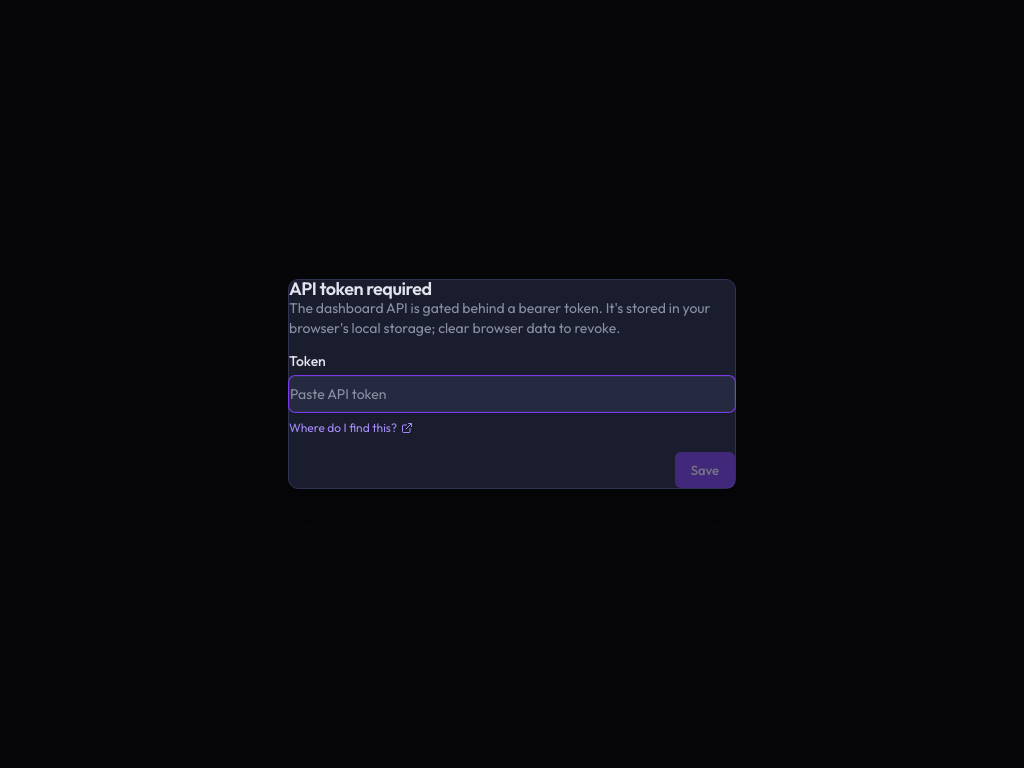
ApiTokenModal › should show a validation error when the token contains whitespace
The image size is (1024, 768).
Type "has a space" into the password field with placeholder "Paste API token" at (512, 394), box [289,376,735,412]
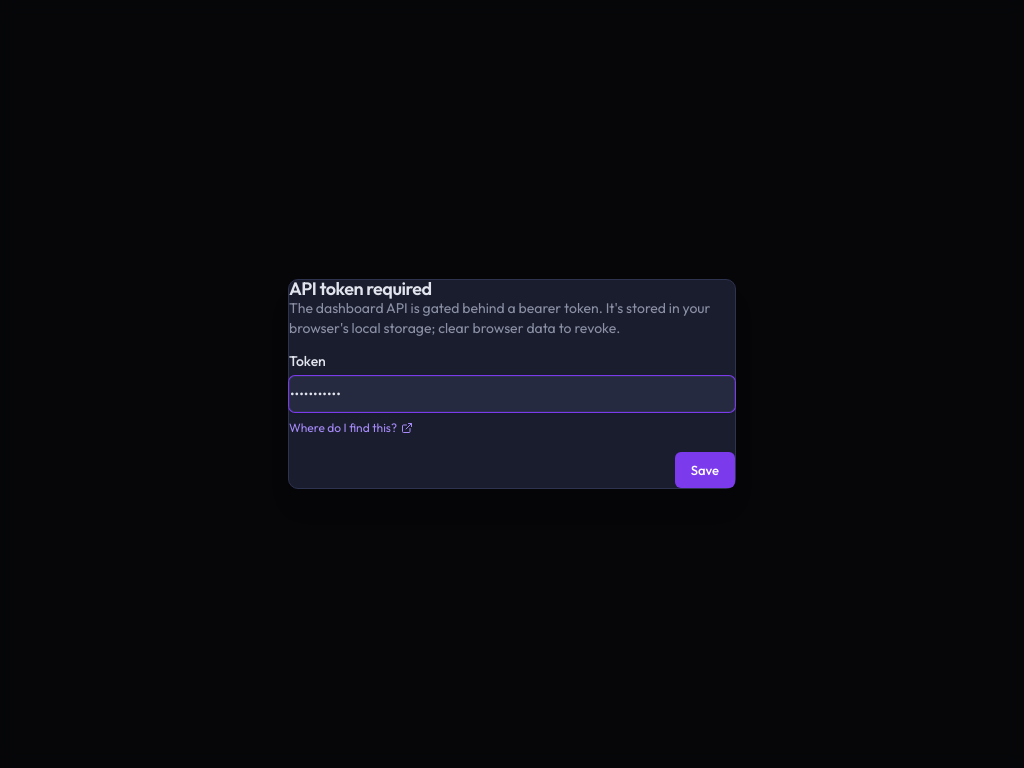
Click the button "Save" at (705, 470), box [675,452,735,488]
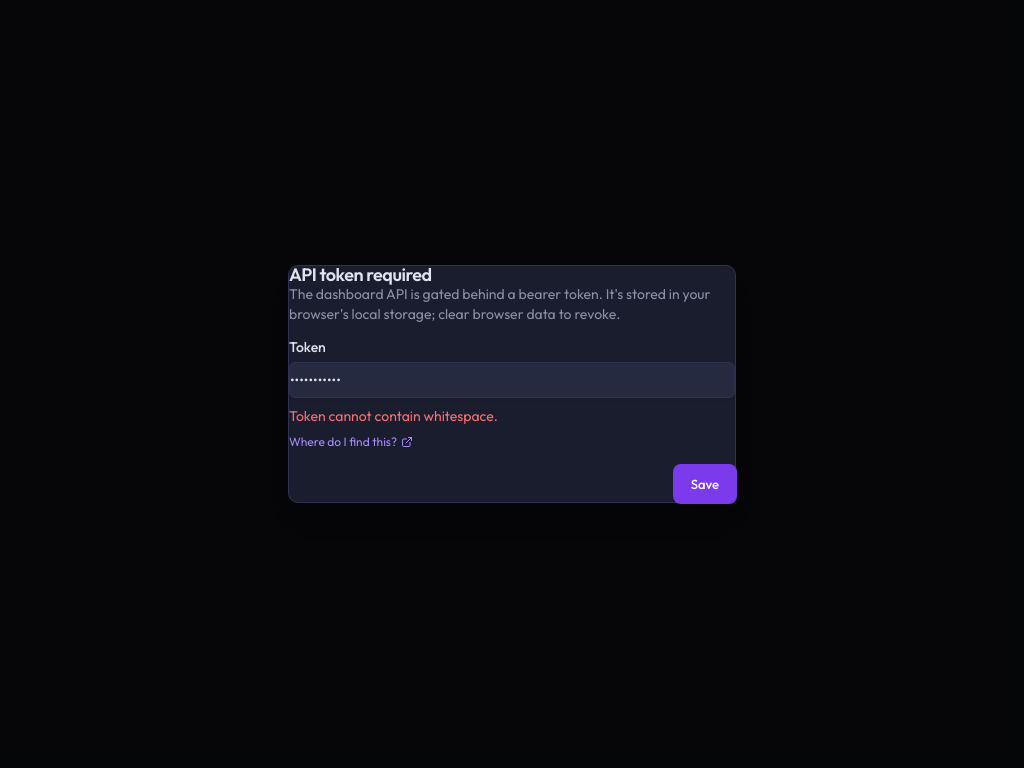
Result: the message reads "Token cannot contain whitespace." at [289,407,498,425]
